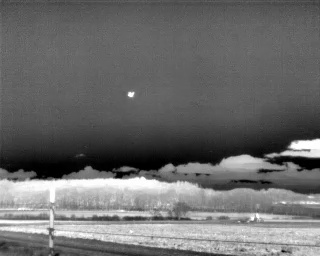DRONE: (124, 87, 139, 102)
